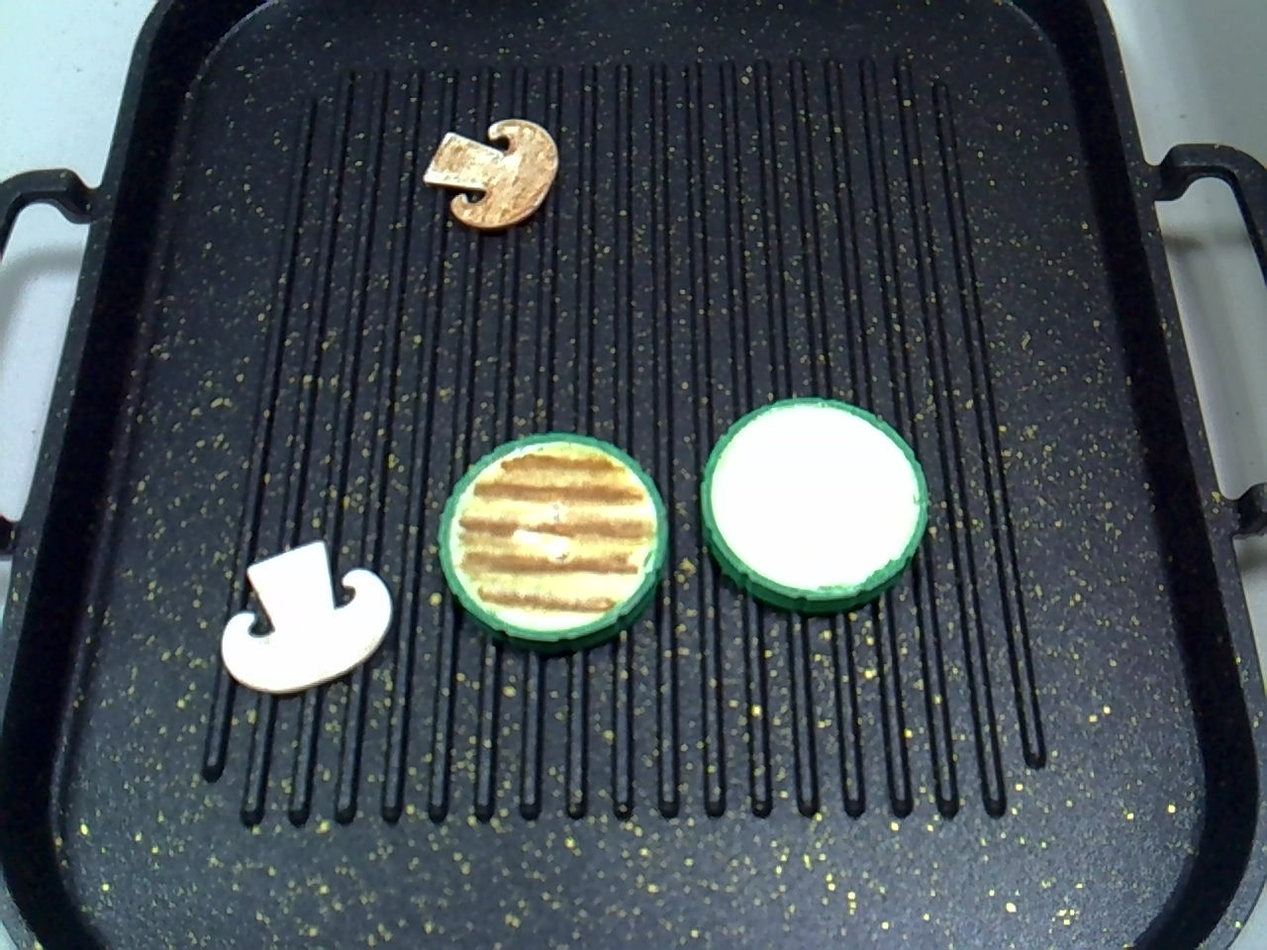mushroom_cooked: (408, 104, 589, 268)
mushroom_raw: (191, 534, 410, 704)
zucchini_cooked: (425, 425, 679, 655)
zucchini_raw: (687, 388, 944, 627)
